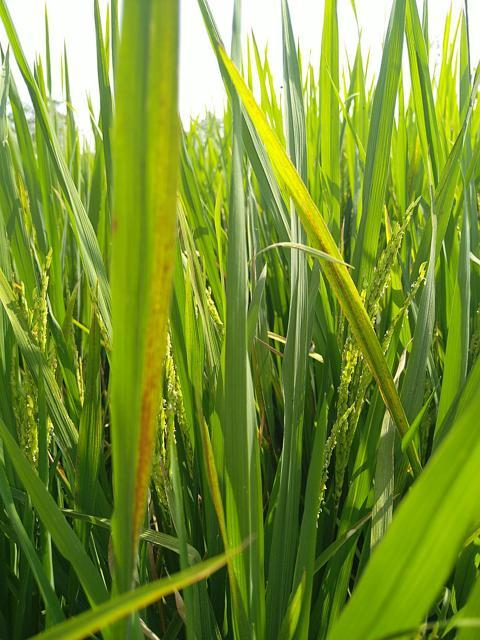Leaf Streak: (198, 0, 341, 260), (136, 29, 177, 535), (319, 258, 410, 438)
